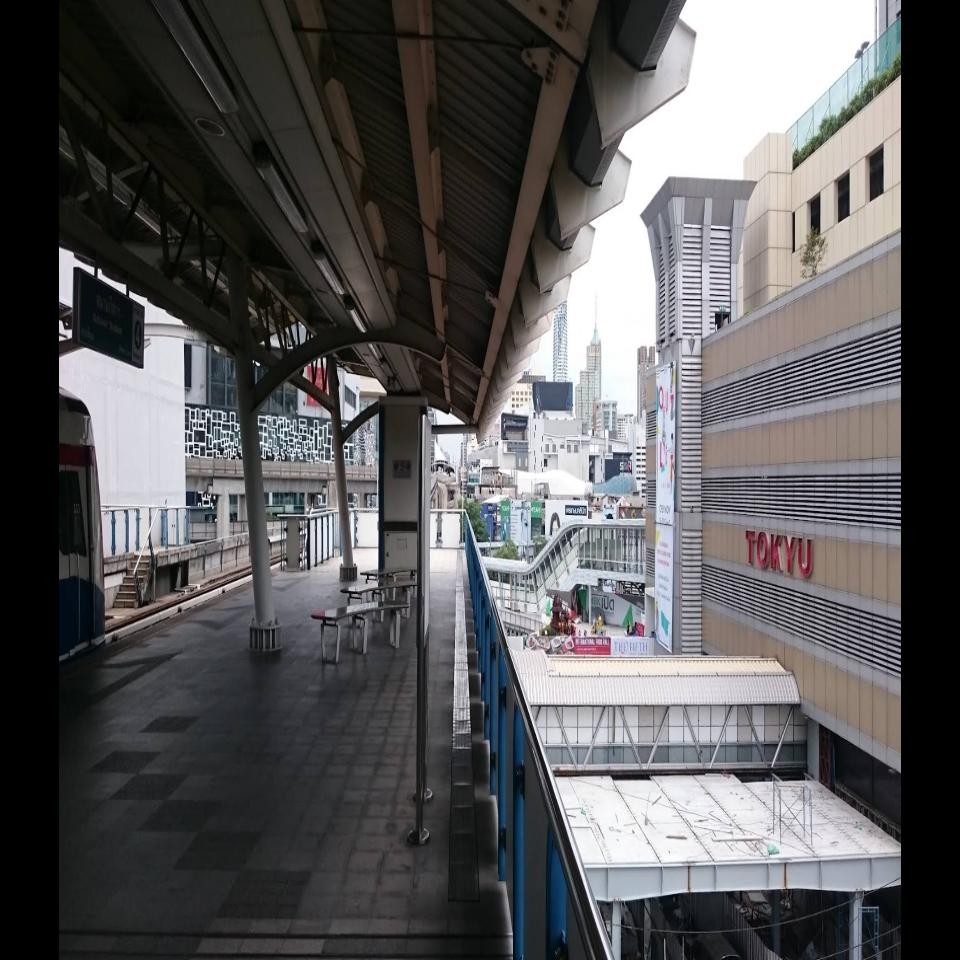National Stadium: (94, 274, 122, 362)
